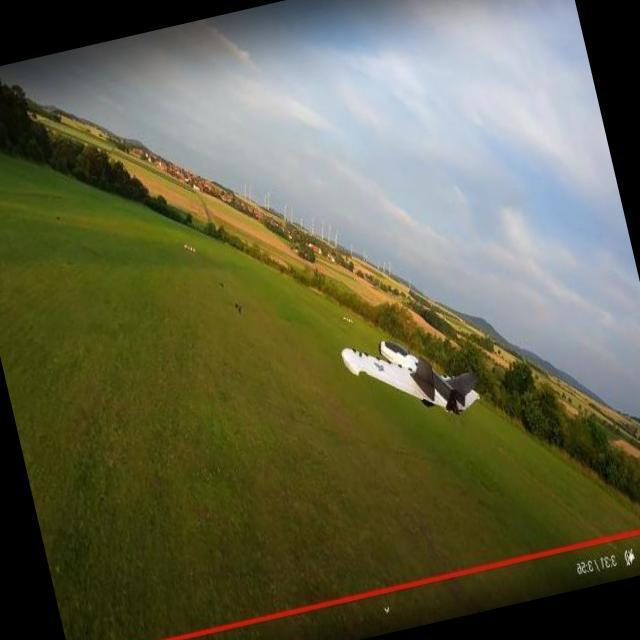iha: (339, 352, 485, 394)
